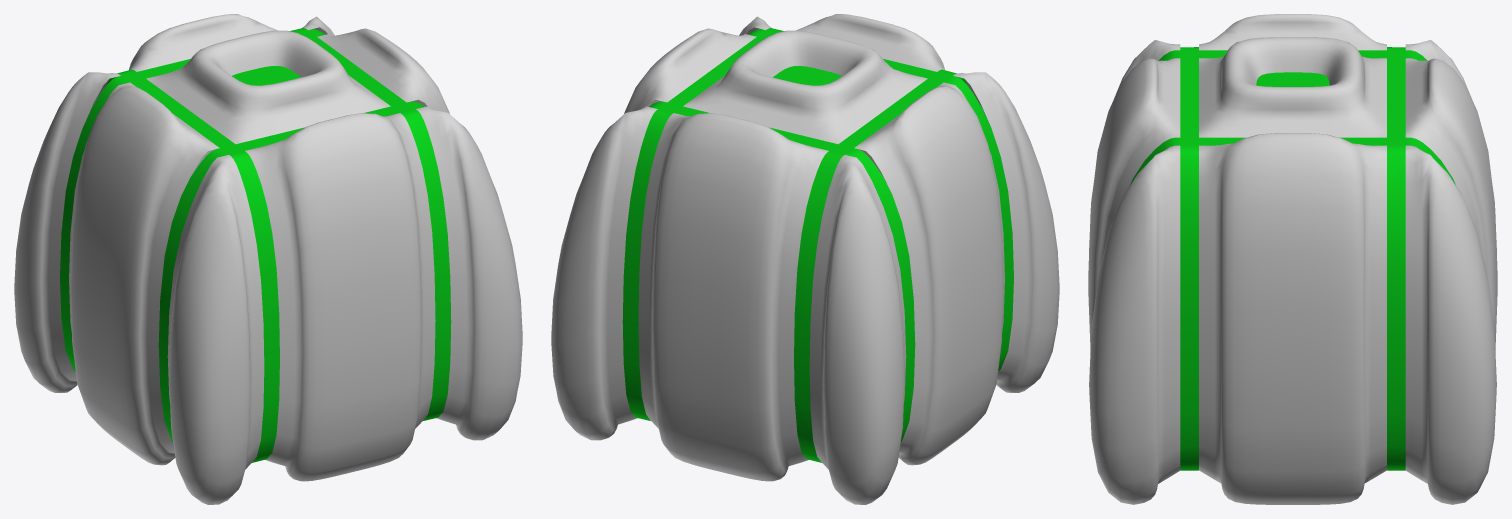
Rendered from UnionGenerator_01.fbx.
The picture shows the model from 3 angles, left to right: view 1: azimuth 30°, elevation 25°; view 2: azimuth 150°, elevation 25°; view 3: azimuth 270°, elevation 25°; orthographic projection. The views are drawn at different scales.
Visible parts, largest first — view 1: Cube; view 2: Cube; view 3: Cube.
Part boxes in pixels (left/top/right/bottom): Cube: left=14, top=14, right=522, bottom=504; Cube: left=551, top=14, right=1059, bottom=504; Cube: left=1088, top=14, right=1497, bottom=504.
Bounding box in the file's own units: 1.98 × 2 × 1.98.
